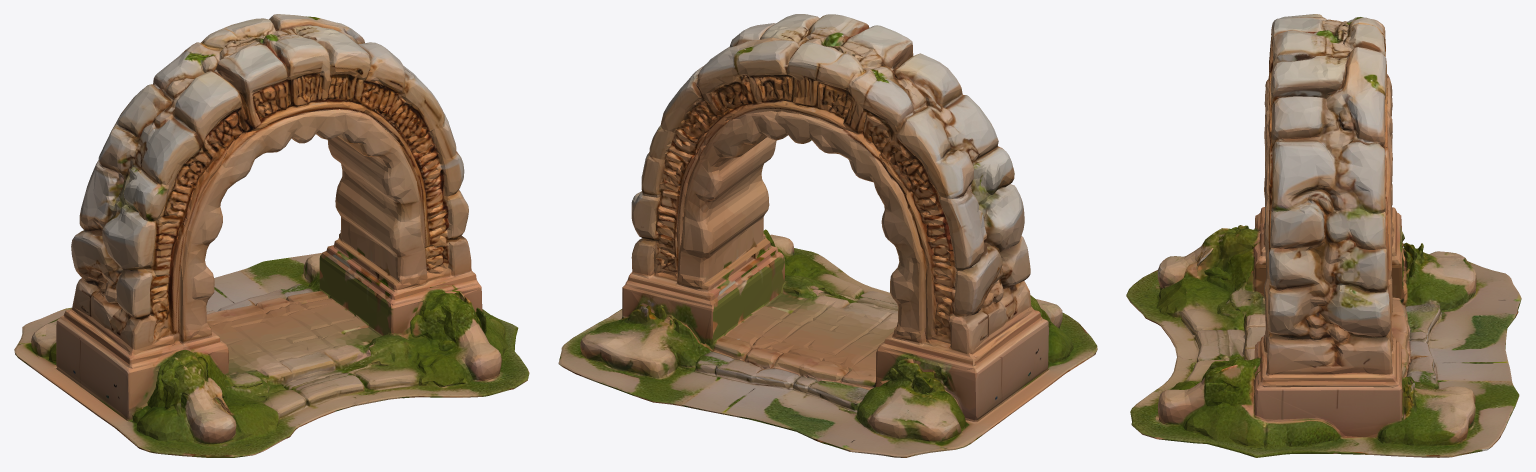
The model's file is peacock-motif-corbel-bracket-optimized.glb.
The picture shows the model from 3 angles, left to right: view 1: azimuth 30°, elevation 25°; view 2: azimuth 150°, elevation 25°; view 3: azimuth 270°, elevation 25°; orthographic projection.
Visible parts, largest first — view 1: 25a059ea-279c-4e5f-a145-8c7557a801b5_texturing; view 2: 25a059ea-279c-4e5f-a145-8c7557a801b5_texturing; view 3: 25a059ea-279c-4e5f-a145-8c7557a801b5_texturing.
Part boxes in pixels (bbox=[...]): 25a059ea-279c-4e5f-a145-8c7557a801b5_texturing: bbox=[14, 14, 529, 457]; 25a059ea-279c-4e5f-a145-8c7557a801b5_texturing: bbox=[558, 14, 1097, 457]; 25a059ea-279c-4e5f-a145-8c7557a801b5_texturing: bbox=[1126, 14, 1521, 457].
Size of the model in its own units: 1.5 by 1.15 by 1.25.
Materials: 1 (1 with a texture image).
